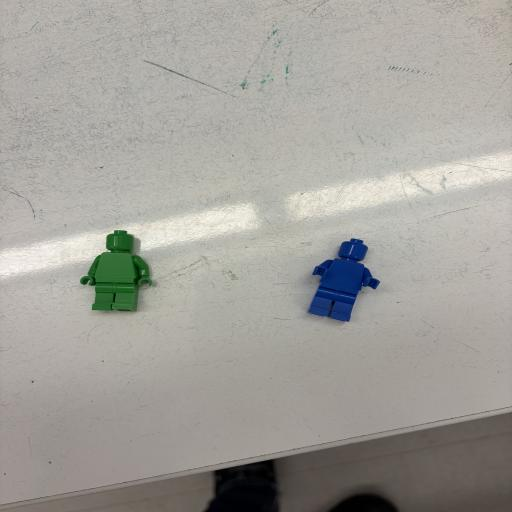Blue-Lego: (308, 238, 380, 322)
Green-Lego: (80, 230, 152, 311)
